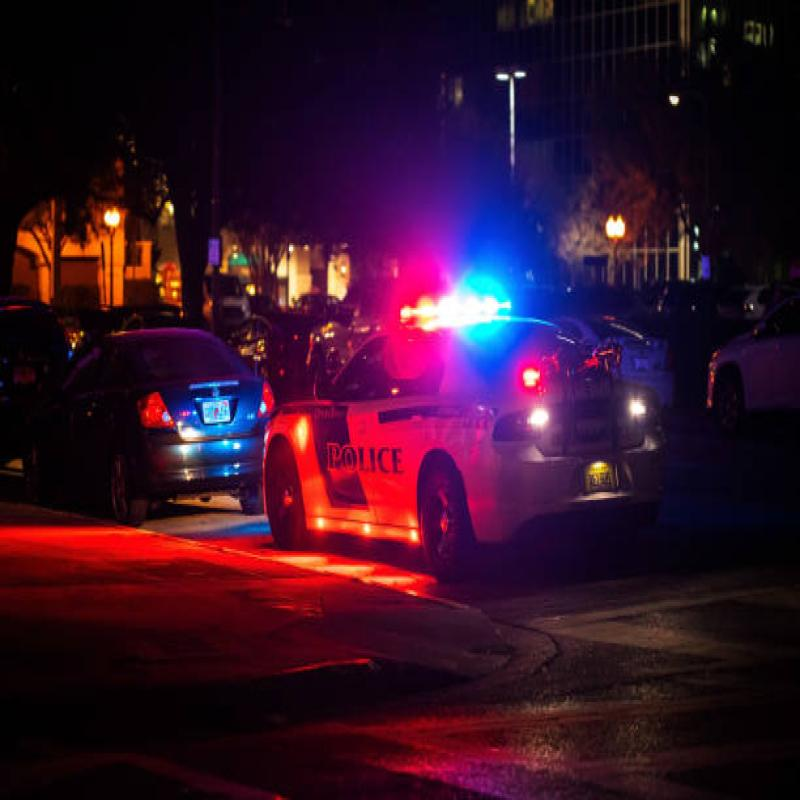AmbulanceSiren: (390, 263, 517, 344)
car: (28, 312, 290, 535)
